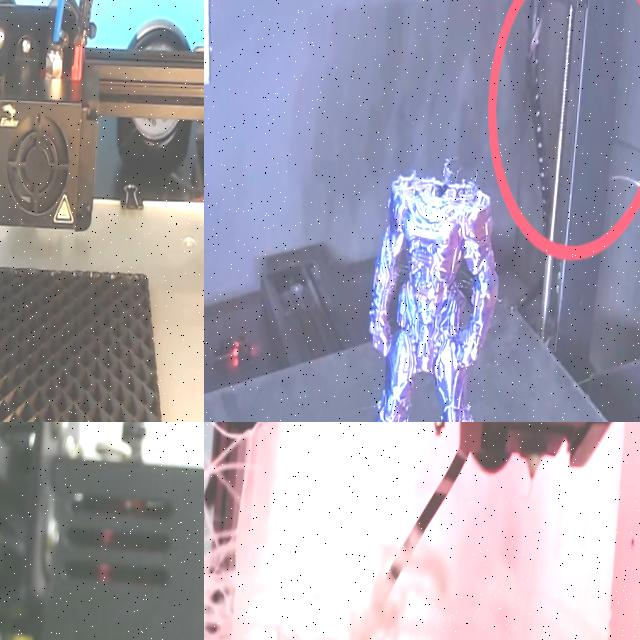spaghetti: (204, 422, 640, 640)
